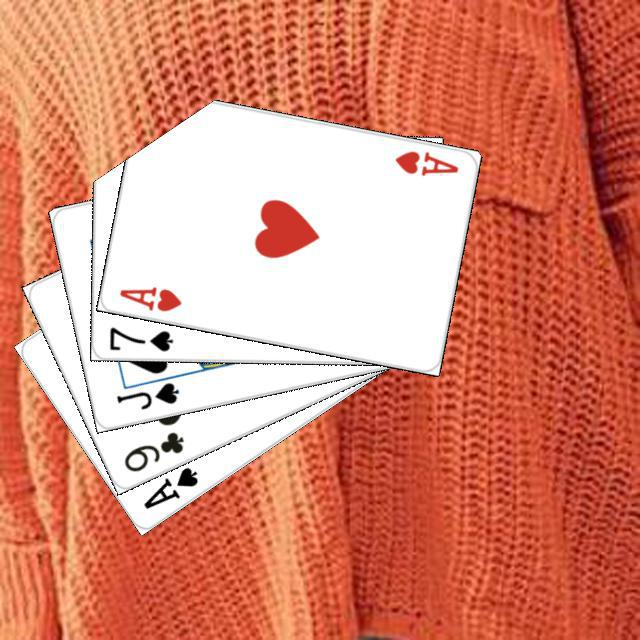7s: (105, 322, 175, 353)
9c: (119, 427, 186, 474)
Ah: (114, 282, 184, 314), (390, 145, 460, 177)
As: (138, 461, 200, 511)
Js: (111, 377, 181, 411)
